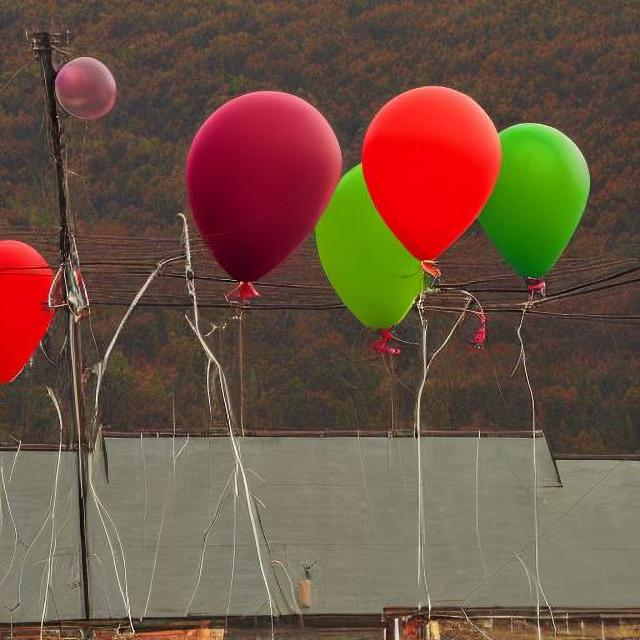balloon: (180, 89, 339, 278), (405, 121, 589, 283), (358, 83, 501, 290), (309, 162, 426, 326), (2, 238, 66, 375), (49, 54, 119, 122)
